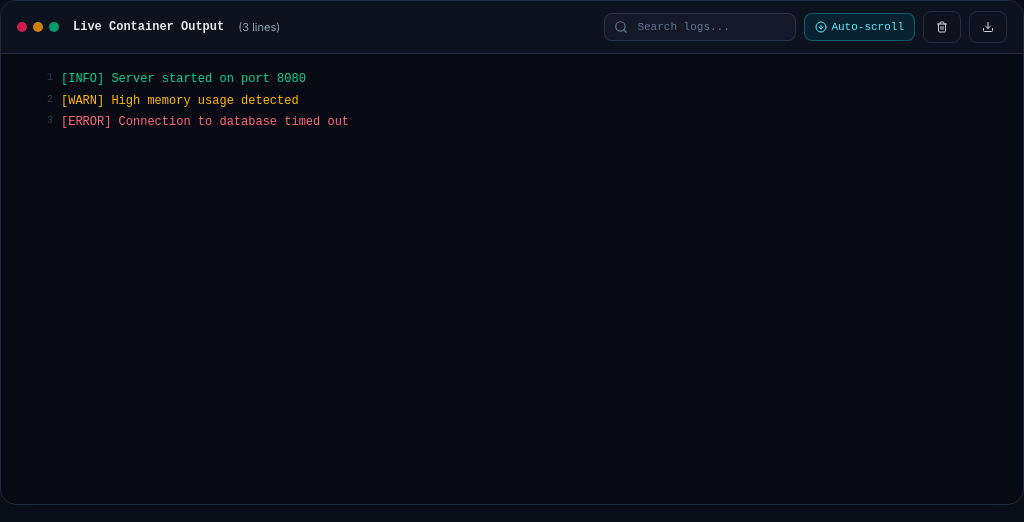
Test: LogTerminal › filters logs based on search query
Type "database" into the field with placeholder "Search logs..." at (700, 27), box [604,13,796,41]
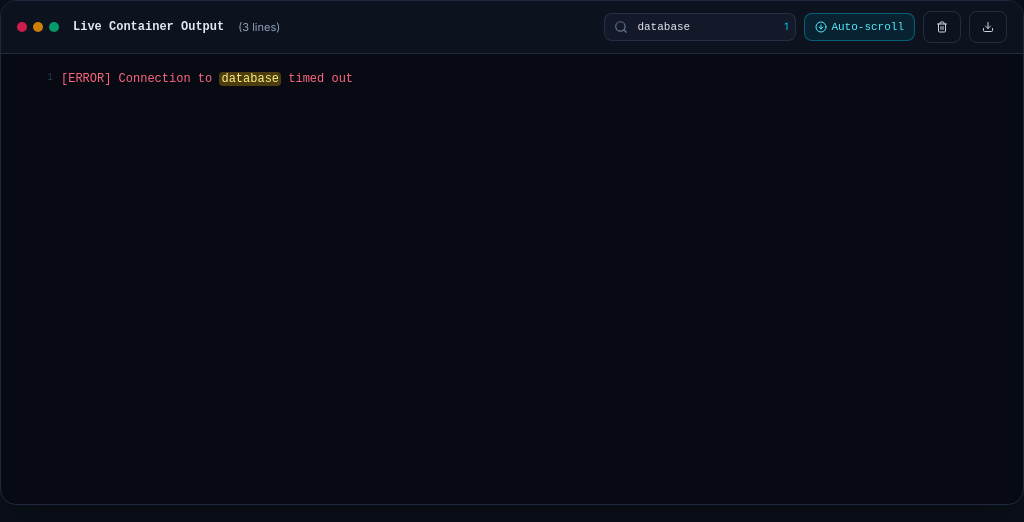
Expected: the text "database" is shown, [219,72,281,86]
Expected: the text "Server started on port 8080" is gone
